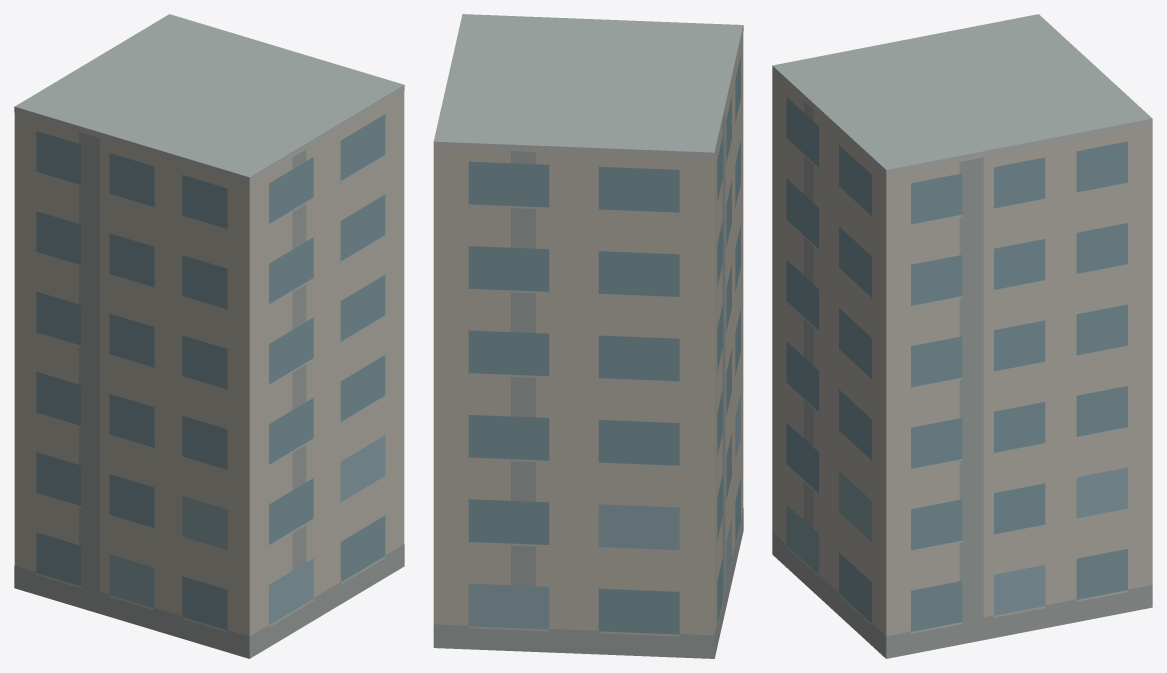
The model's file is survey-upis-32788543.glb.
3 views of the same model, side by side, from view 1: azimuth 30°, elevation 25°; view 2: azimuth 150°, elevation 25°; view 3: azimuth 270°, elevation 25° (orthographic). The views are drawn at different scales.
Visible parts, largest first — view 1: survey-upis-32788543.tmp; view 2: survey-upis-32788543.tmp; view 3: survey-upis-32788543.tmp.
Part boxes in pixels (left/top/right/bottom): survey-upis-32788543.tmp: left=14, top=14, right=404, bottom=658; survey-upis-32788543.tmp: left=433, top=14, right=743, bottom=658; survey-upis-32788543.tmp: left=772, top=14, right=1152, bottom=658.
Bounding box in the file's own units: 13.15 × 19.2 × 13.55.
